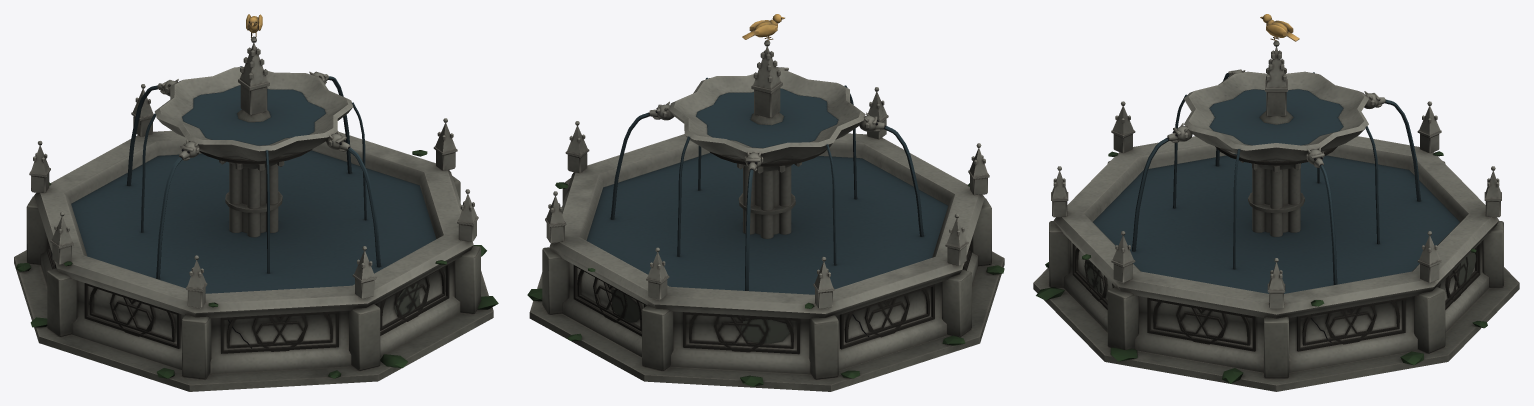
File: Fountain.fbx
The picture shows the model from 3 angles, left to right: view 1: azimuth 30°, elevation 25°; view 2: azimuth 150°, elevation 25°; view 3: azimuth 270°, elevation 25°; orthographic projection. The views are drawn at different scales.
Visible parts, largest first — view 1: Fountain_Main, Fountain_Pool; view 2: Fountain_Main, Fountain_Pool; view 3: Fountain_Main, Fountain_Pool.
Boxes of the visible parts, x1,y1,x2,y2 form: Fountain_Main: (14,14,498,391); Fountain_Pool: (71,66,436,293); Fountain_Main: (527,14,1004,391); Fountain_Pool: (586,77,947,294); Fountain_Main: (1033,14,1519,391); Fountain_Pool: (1093,72,1459,293).
Size of the model in its own units: 960 by 593 by 960.
